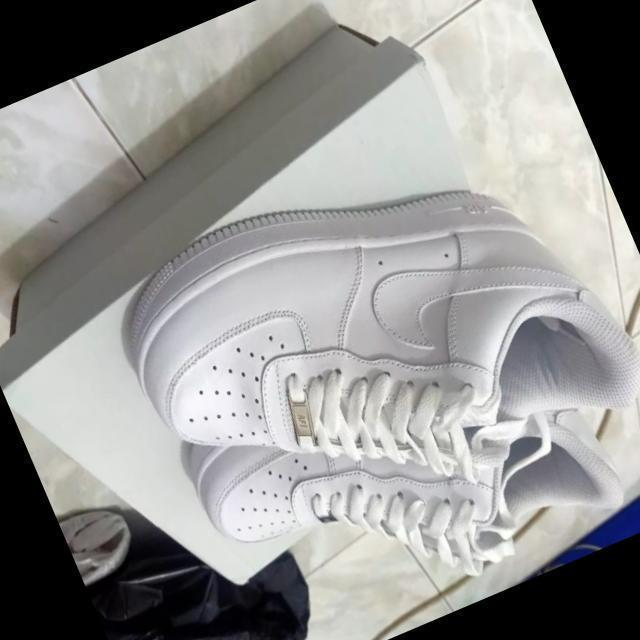nike original air force: (93, 95, 640, 584), (177, 294, 640, 640)
